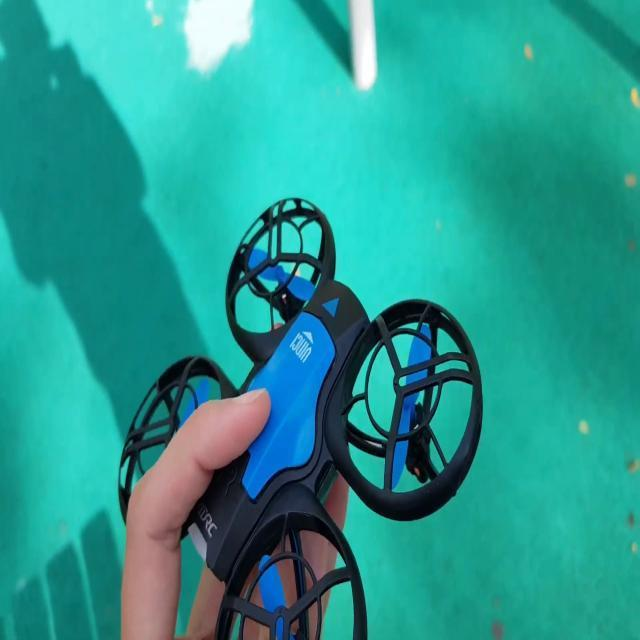Drons: (102, 187, 481, 640)
